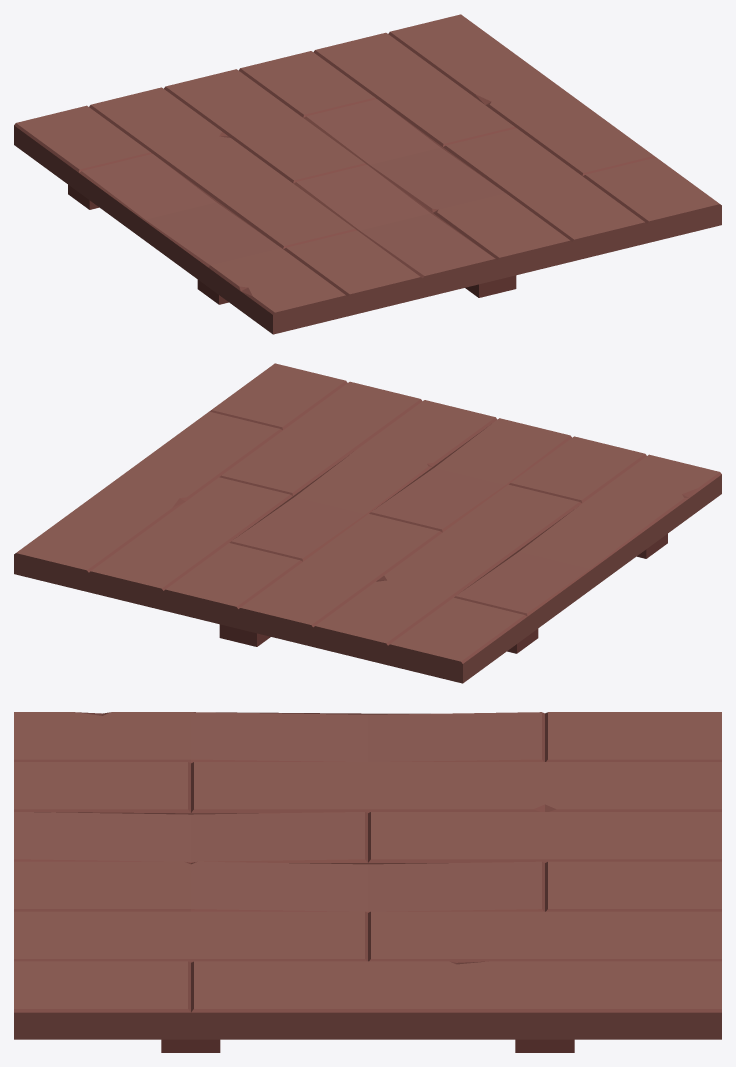
File: Floor_2.fbx
The picture shows the model from 3 angles, top to bottom: view 1: azimuth 30°, elevation 25°; view 2: azimuth 150°, elevation 25°; view 3: azimuth 270°, elevation 25°; orthographic projection. The views are drawn at different scales.
Visible parts, largest first — view 1: Floor_2; view 2: Floor_2; view 3: Floor_2.
Part boxes in pixels (x1=…): Floor_2: x1=14, y1=14, x2=721, y2=334; Floor_2: x1=14, y1=363, x2=721, y2=683; Floor_2: x1=14, y1=712, x2=721, y2=1052.
Bounding box in the file's own units: 2.4 × 2.4 × 0.18.
